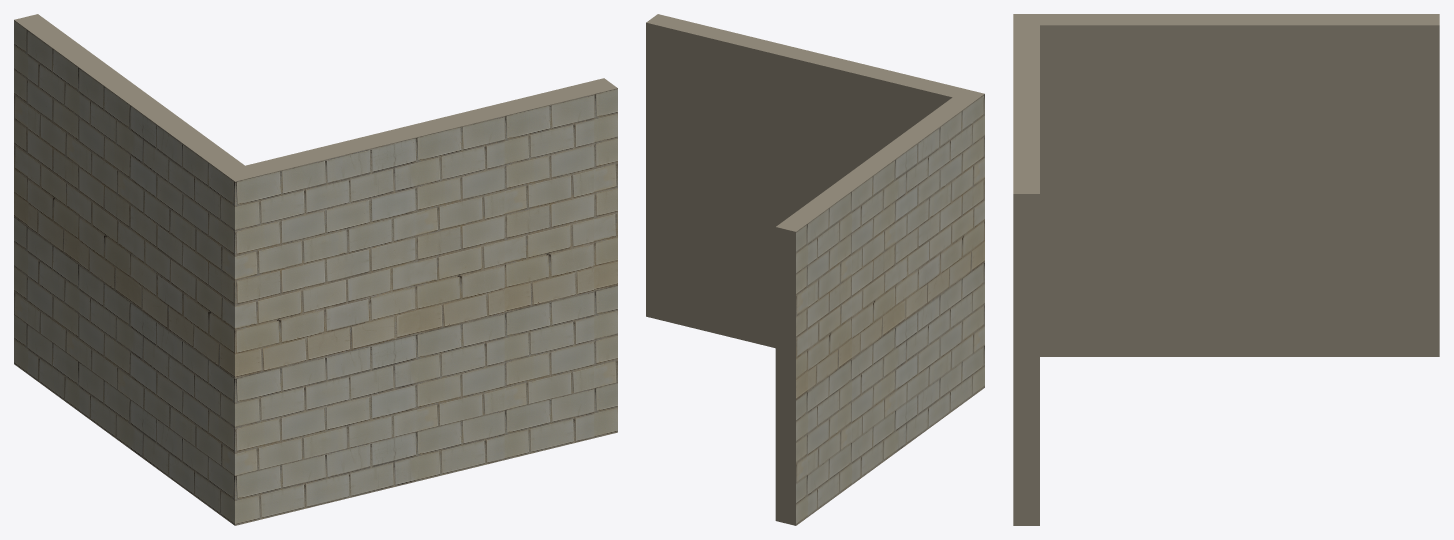
The picture shows the model from 3 angles, left to right: view 1: azimuth 30°, elevation 25°; view 2: azimuth 150°, elevation 25°; view 3: azimuth 270°, elevation 25°; orthographic projection. The views are drawn at different scales.
Visible parts, largest first — view 1: wall; view 2: wall; view 3: wall.
Part boxes in pixels (box(x1,y1,x2,y2)): wall: box(14, 14, 617, 525); wall: box(646, 14, 984, 525); wall: box(1013, 14, 1439, 525).
Bounding box in the file's own units: 32 × 27.5 × 32.
